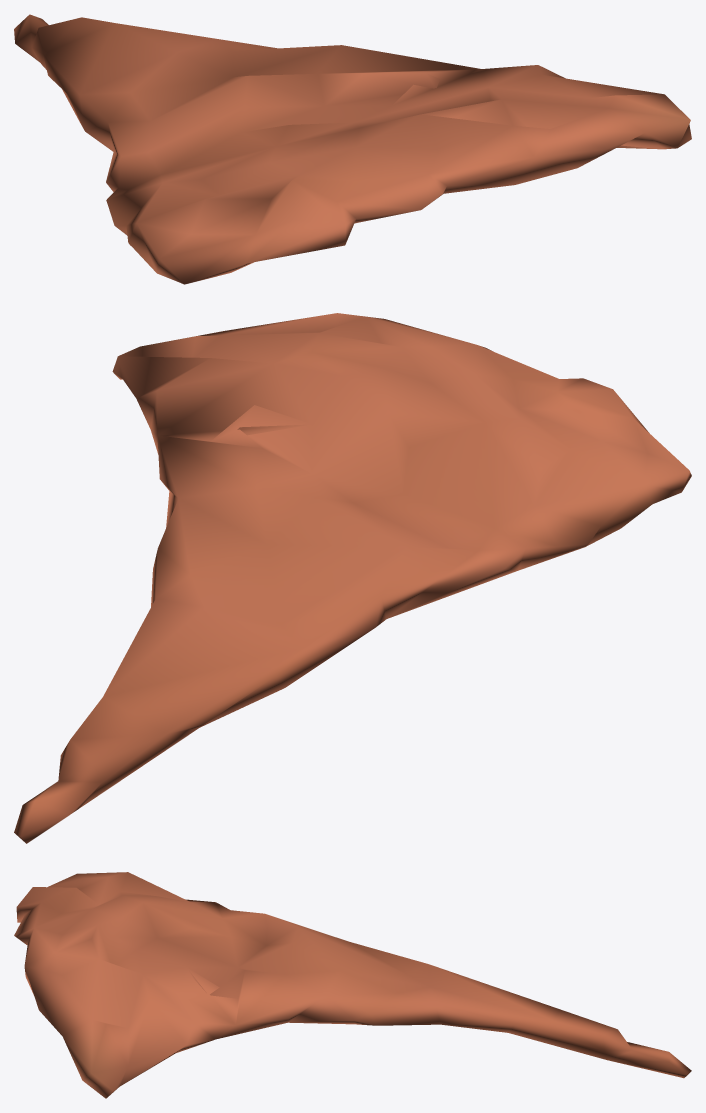
3 renders of one model, top to bottom at view 1: azimuth 30°, elevation 25°; view 2: azimuth 150°, elevation 25°; view 3: azimuth 270°, elevation 25°, orthographic. The views are drawn at different scales.
Visible parts, largest first — view 1: LOD 4_16298169511486423444_820756dedd5b3434c8e6bed8ae6a193b; view 2: LOD 4_16298169511486423444_820756dedd5b3434c8e6bed8ae6a193b; view 3: LOD 4_16298169511486423444_820756dedd5b3434c8e6bed8ae6a193b.
Boxes of the visible parts, box(x1,y1,x2,y2) form: LOD 4_16298169511486423444_820756dedd5b3434c8e6bed8ae6a193b: box(14, 14, 691, 284); LOD 4_16298169511486423444_820756dedd5b3434c8e6bed8ae6a193b: box(14, 313, 691, 843); LOD 4_16298169511486423444_820756dedd5b3434c8e6bed8ae6a193b: box(14, 872, 691, 1098).
Size of the model in its own units: 3.07 by 1.11 by 4.32.
